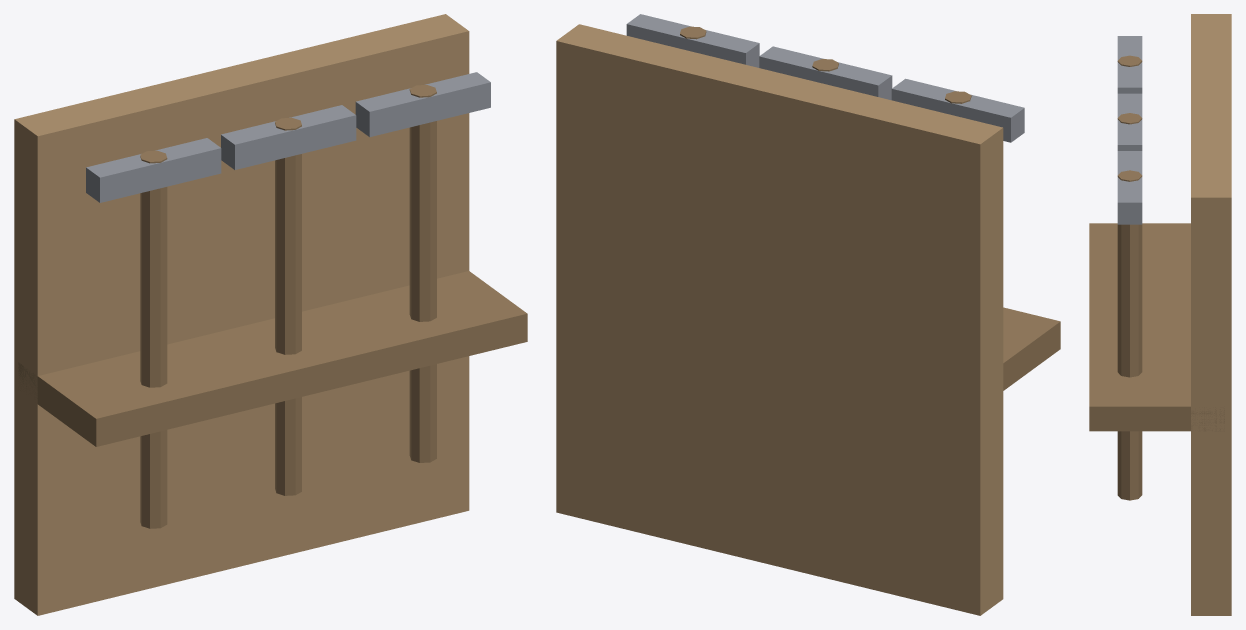
File: pickaxe_rack.glb
The picture shows the model from 3 angles, left to right: view 1: azimuth 30°, elevation 25°; view 2: azimuth 150°, elevation 25°; view 3: azimuth 270°, elevation 25°; orthographic projection. The views are drawn at different scales.
Visible parts, largest first — view 1: RackBack, RackShelf, Handle_0, Handle_2, Handle_1, Head_0, Head_1, Head_2; view 2: RackBack, Head_0, RackShelf, Head_2, Head_1; view 3: RackBack, RackShelf, Handle_2, Head_2, Head_0, Head_1, Handle_1, Handle_0.
Part boxes in pixels (bbox=[...]): RackBack: bbox=[14, 14, 469, 615]; RackShelf: bbox=[18, 271, 527, 446]; Handle_0: bbox=[140, 150, 167, 528]; Handle_2: bbox=[409, 85, 436, 462]; Handle_1: bbox=[275, 117, 301, 495]; Head_0: bbox=[86, 138, 221, 202]; Head_1: bbox=[221, 105, 356, 169]; Head_2: bbox=[355, 72, 490, 137]; RackBack: bbox=[556, 24, 1003, 615]; Head_0: bbox=[891, 78, 1024, 142]; RackShelf: bbox=[1003, 307, 1060, 390]; Head_2: bbox=[626, 14, 759, 67]; Head_1: bbox=[759, 46, 892, 100]; RackBack: bbox=[1191, 14, 1231, 615]; RackShelf: bbox=[1089, 223, 1224, 431]; Handle_2: bbox=[1117, 170, 1142, 500]; Head_2: bbox=[1117, 151, 1142, 224]; Head_0: bbox=[1117, 36, 1142, 93]; Head_1: bbox=[1117, 93, 1142, 150]; Handle_1: bbox=[1117, 113, 1142, 124]; Handle_0: bbox=[1117, 55, 1142, 66].
Size of the model in its own units: 3.2 by 3.4 by 1.05.
